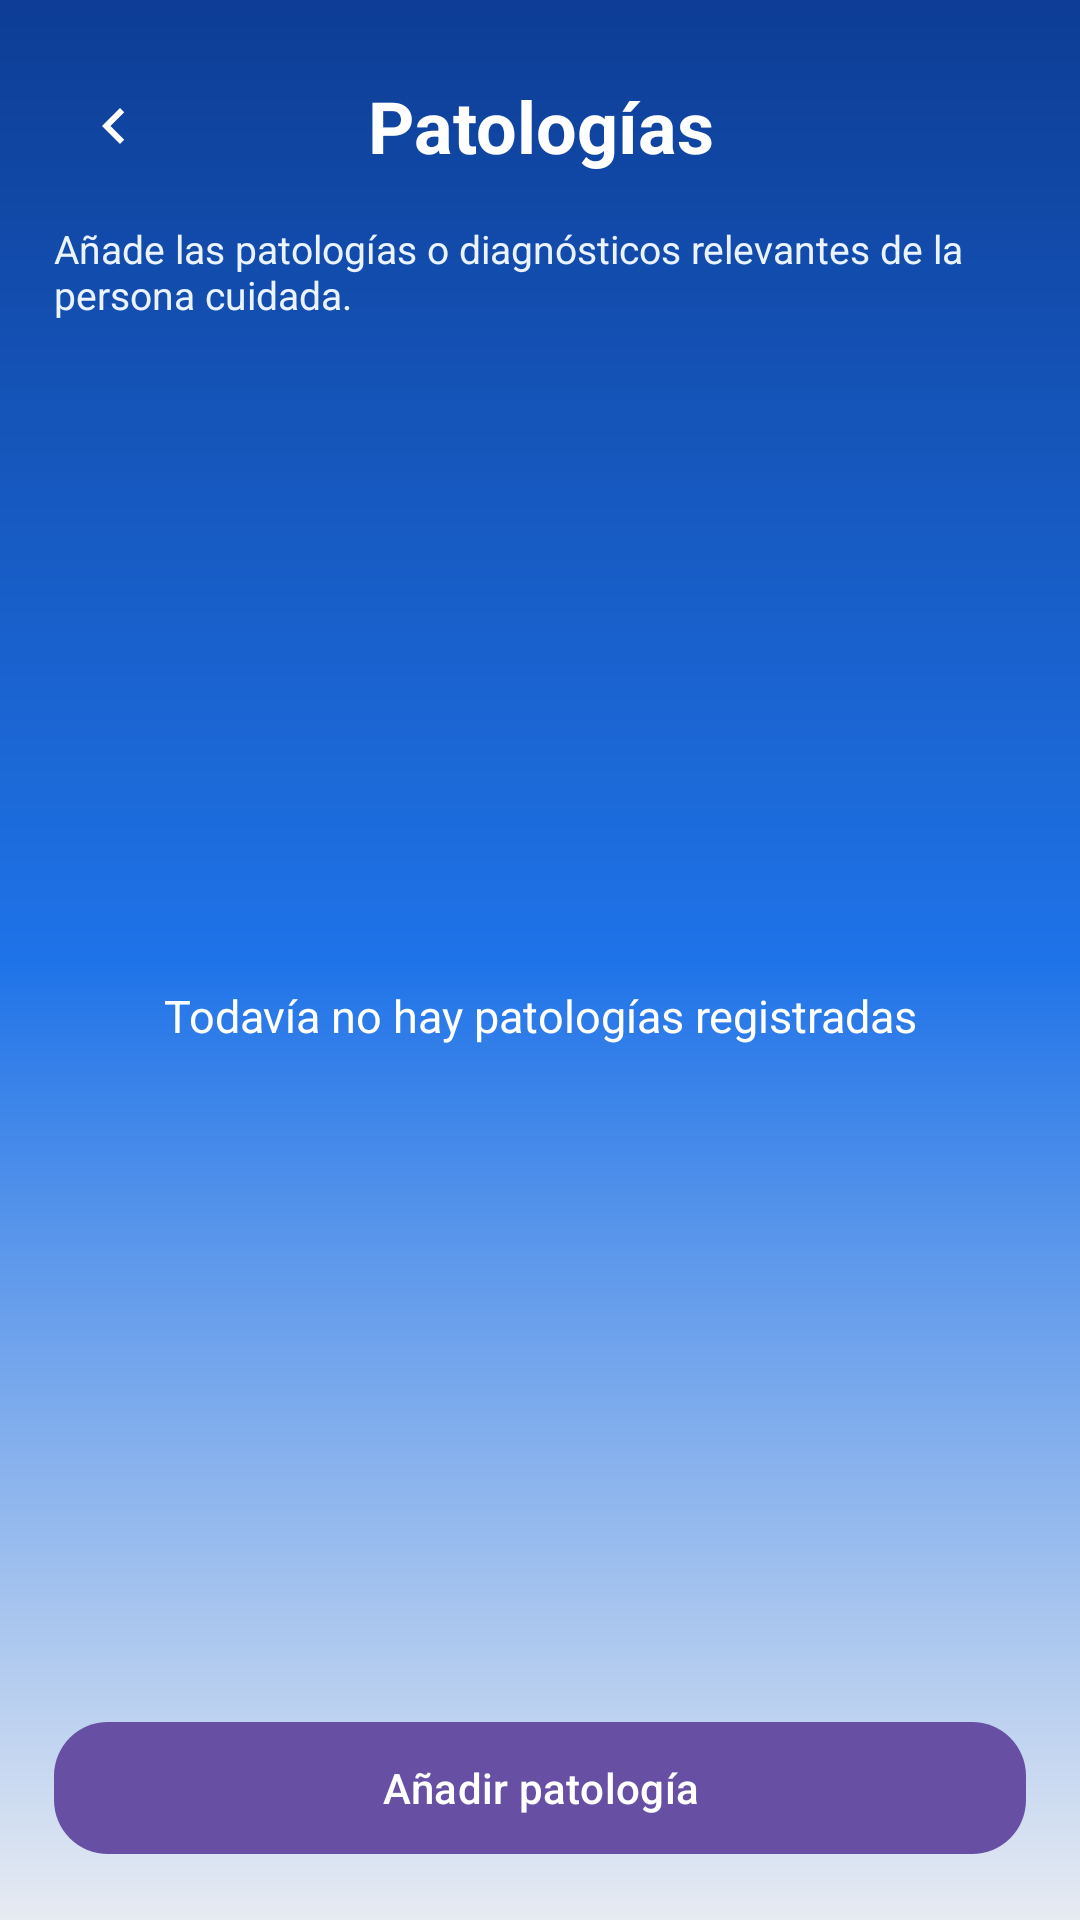

Named icons in this screenshot (1080*1920) and their bounding boxes, rect(x1, y1, x2, y2):
Volver: rect(102, 108, 124, 144)
